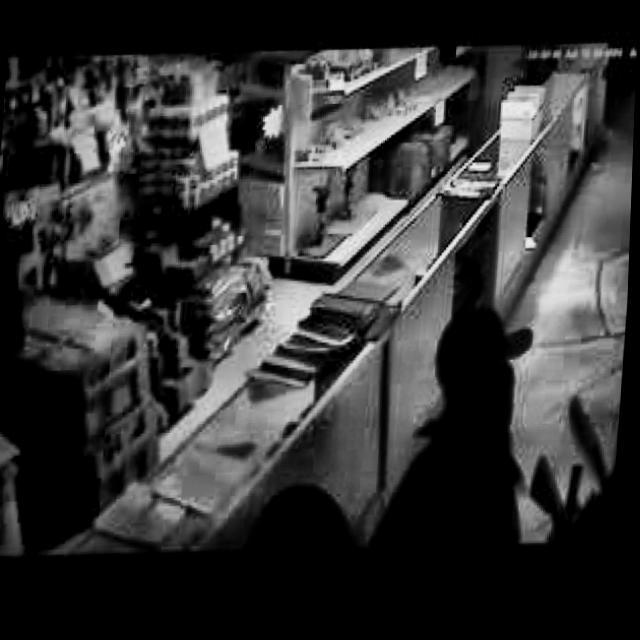Weapon: (358, 259, 572, 582)
